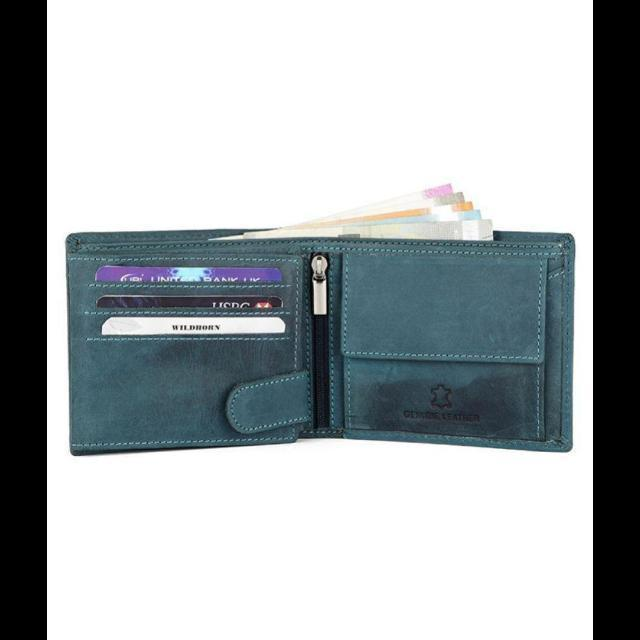wallet: (62, 218, 580, 460)
